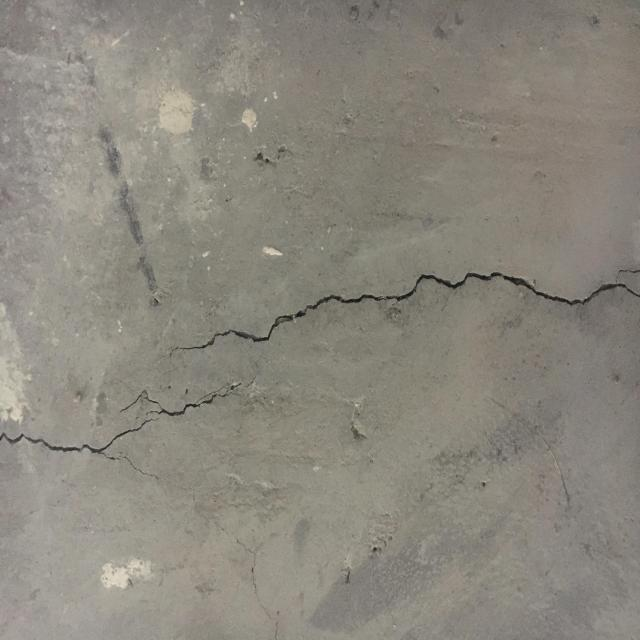Rachadura: (171, 265, 640, 357), (0, 376, 248, 460)
